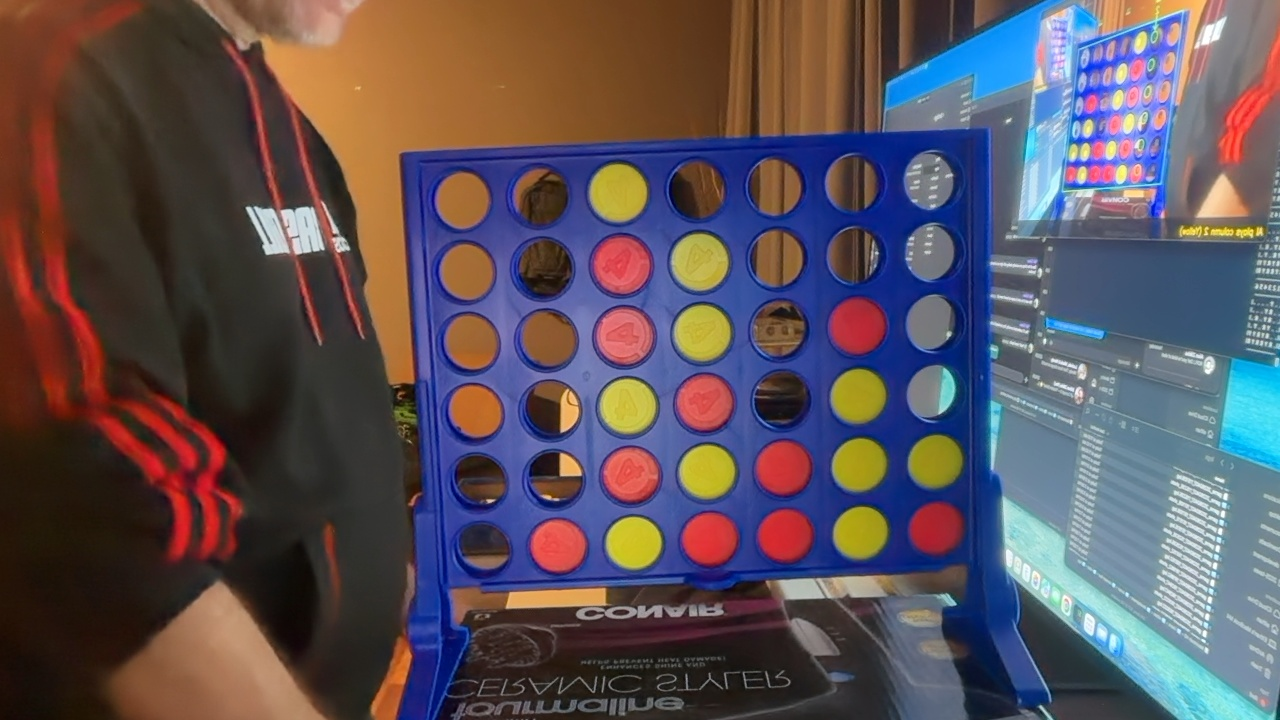red piece: (591, 235, 652, 296), (595, 307, 655, 366), (675, 373, 734, 432), (828, 297, 887, 355), (601, 446, 659, 504), (755, 440, 812, 497), (680, 512, 739, 567), (530, 519, 586, 574), (757, 509, 813, 563), (909, 502, 964, 555)
yellow piece: (588, 163, 648, 223), (670, 232, 729, 291), (673, 303, 732, 362), (597, 378, 657, 436), (677, 444, 737, 500), (829, 368, 886, 424), (605, 516, 663, 571), (908, 434, 964, 489), (832, 506, 889, 560), (831, 438, 887, 492)
